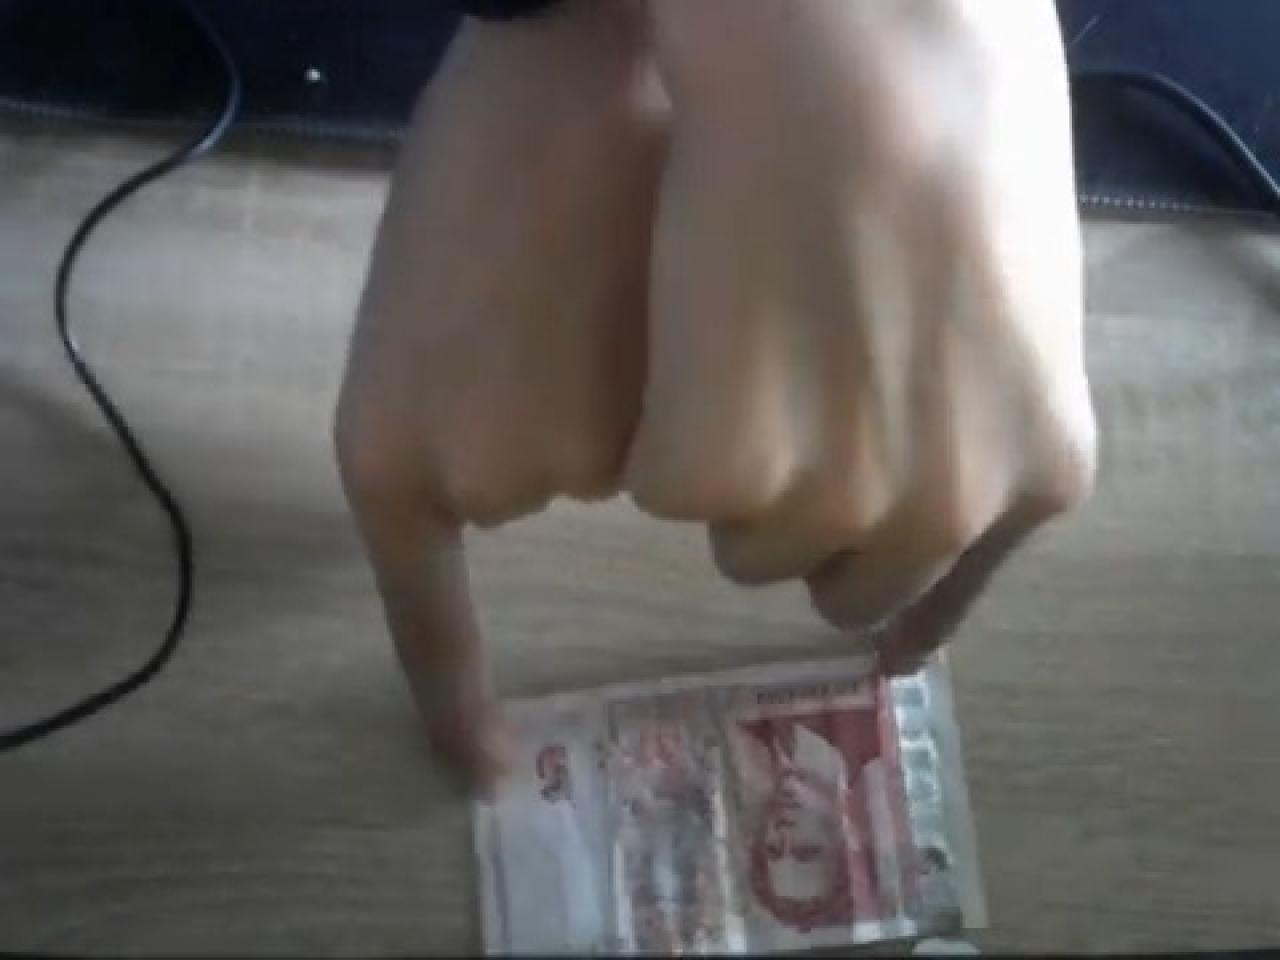5leva: (477, 664, 979, 960)
